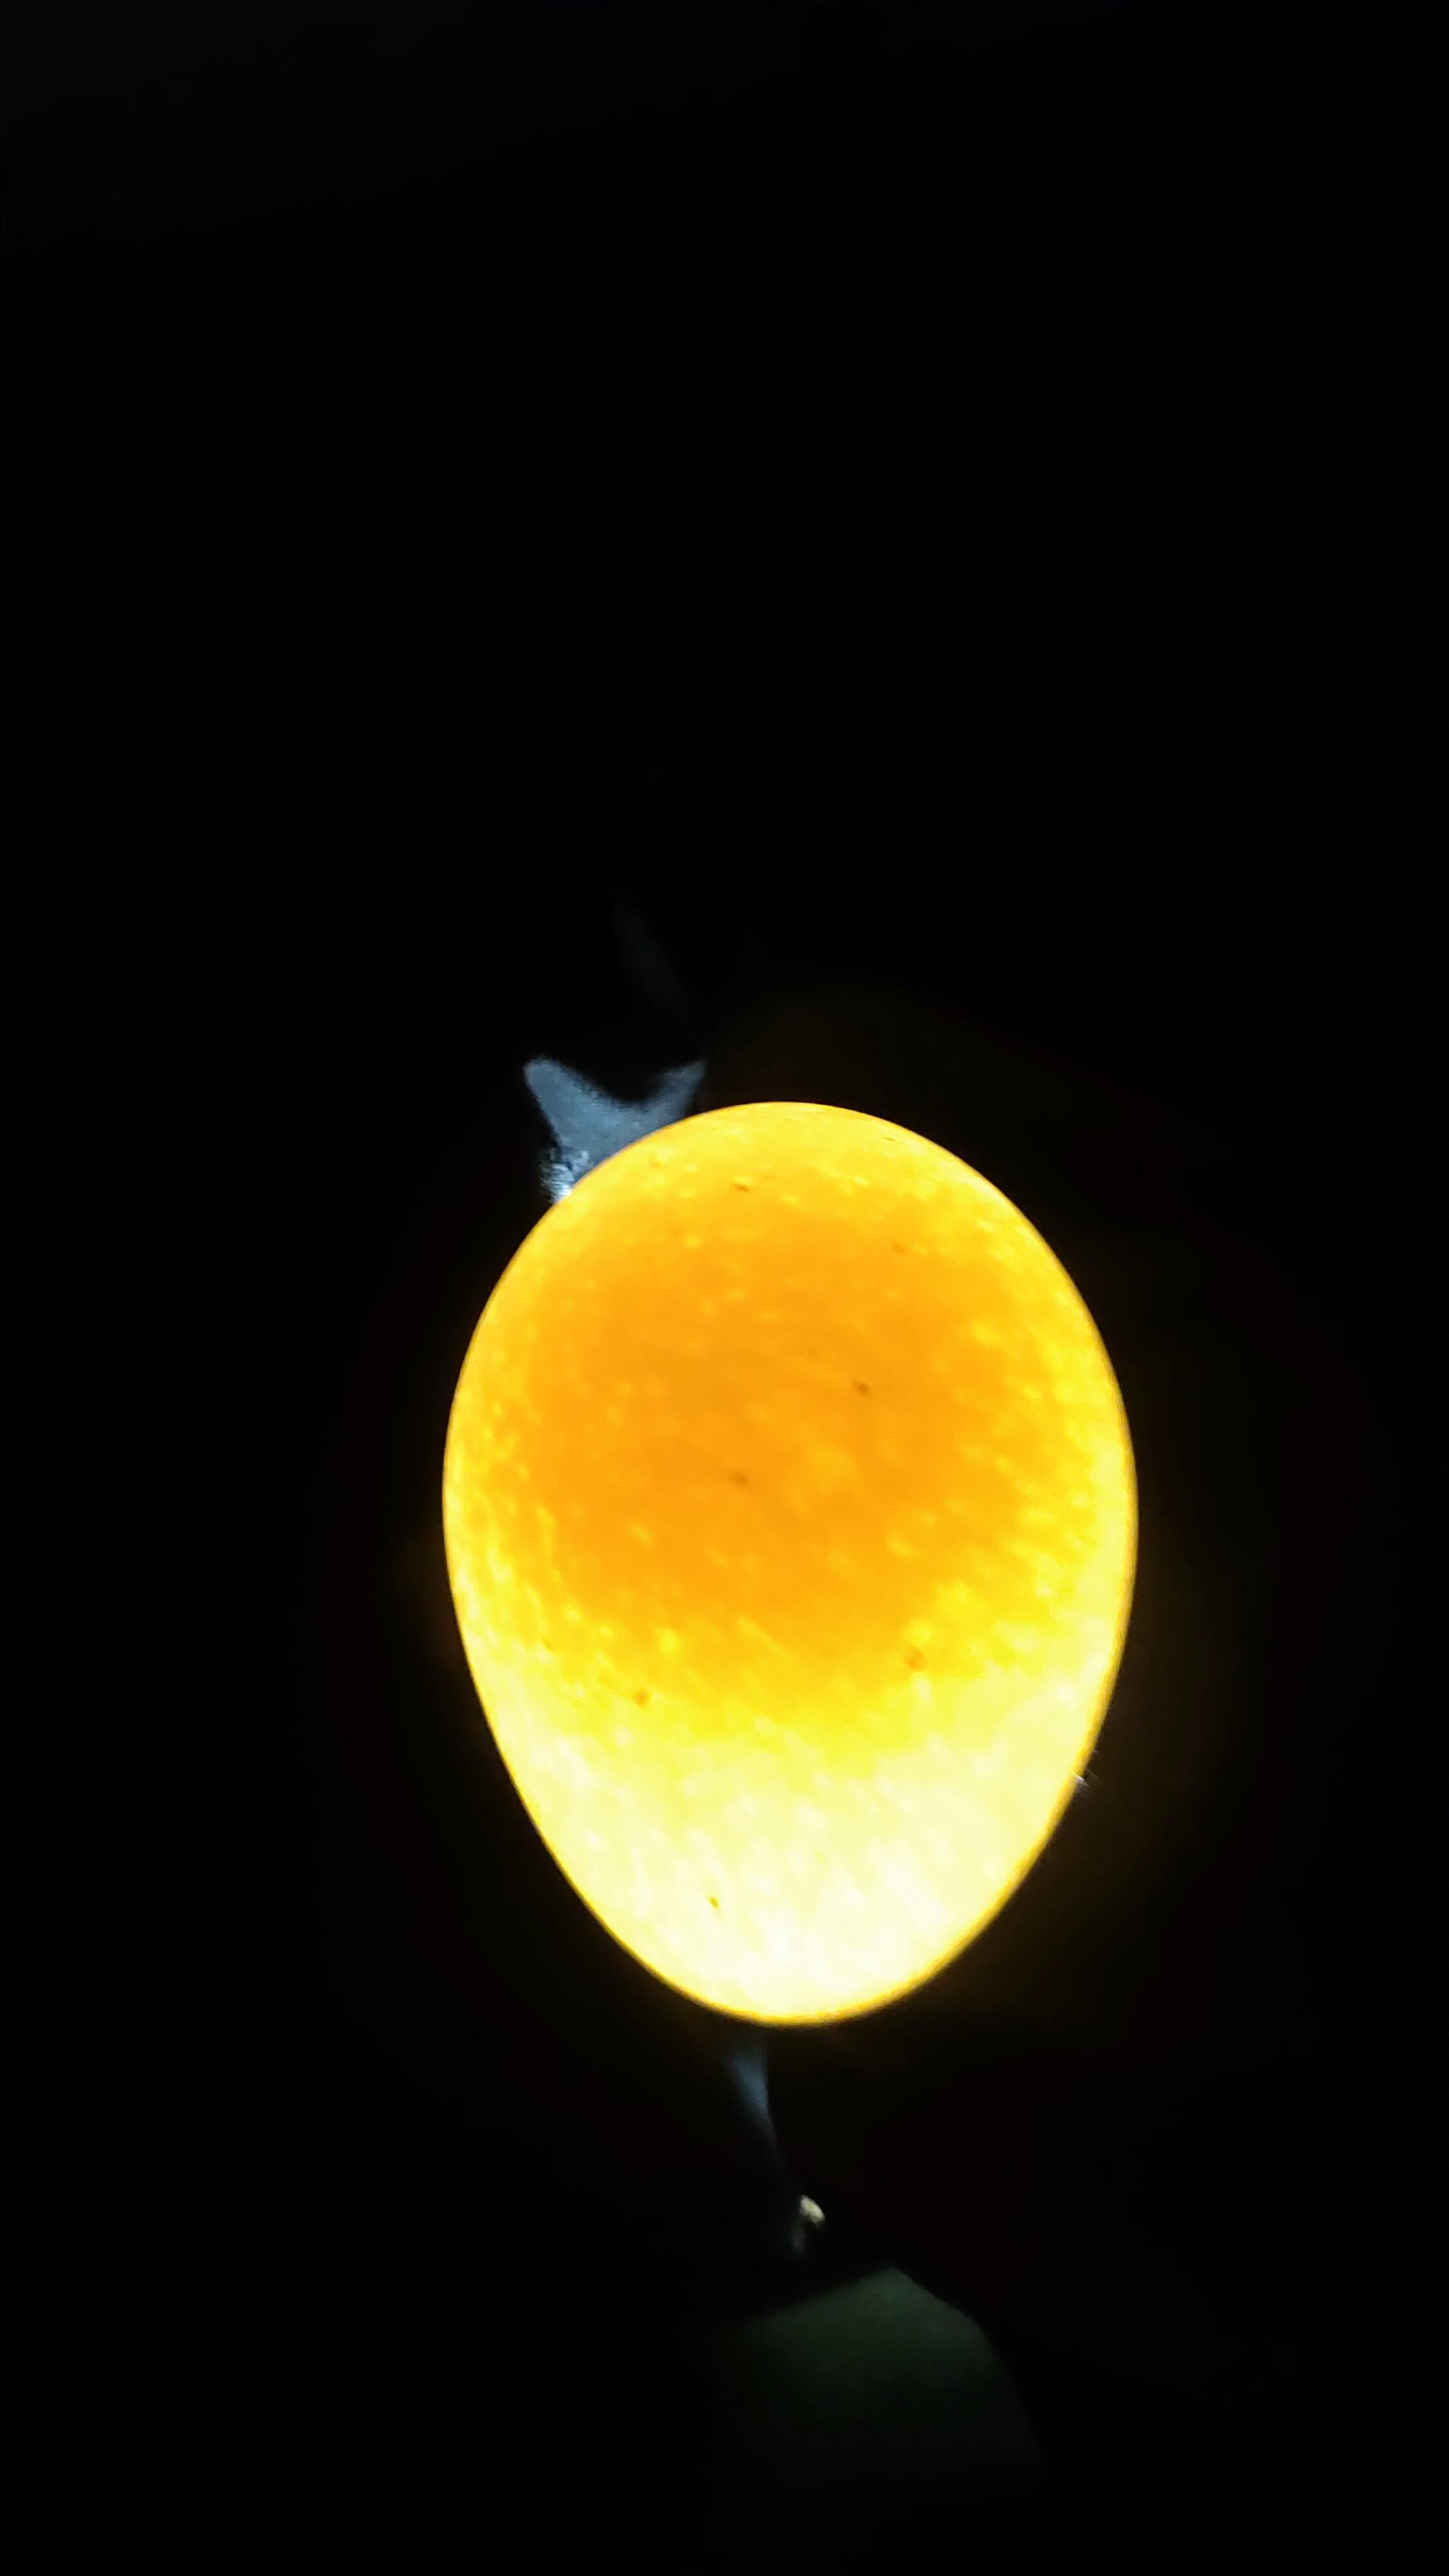A - Good: (386, 1037, 1205, 2074)
